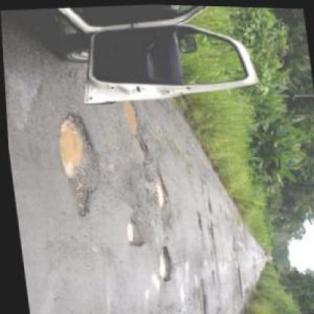Hueco: (51, 108, 106, 220), (121, 97, 145, 139), (153, 244, 172, 284), (121, 217, 142, 248), (151, 175, 168, 208), (193, 209, 203, 233)
